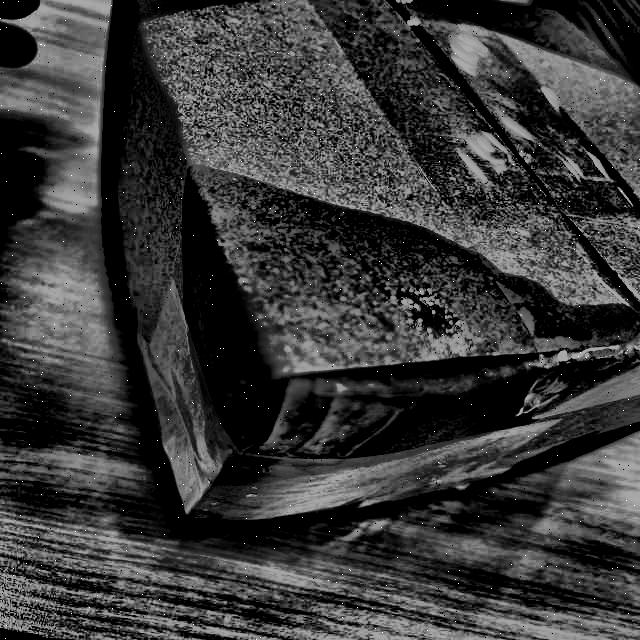box: (89, 0, 640, 536)
wet: (185, 168, 639, 526)
